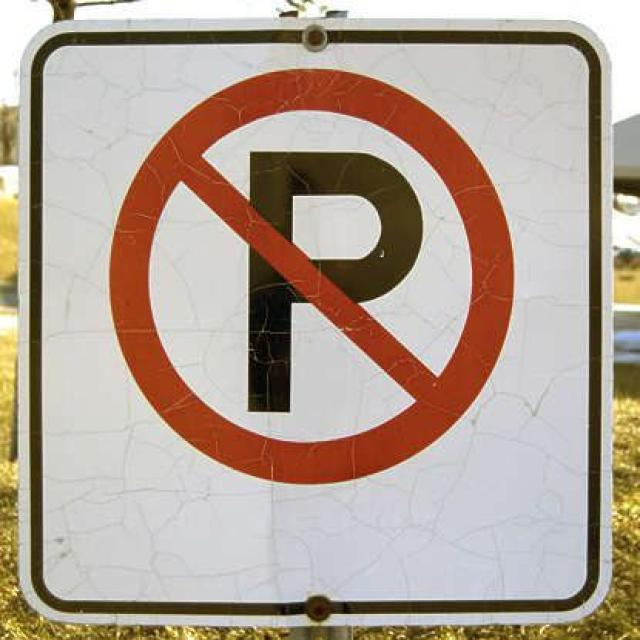no parking: (109, 68, 517, 485)
